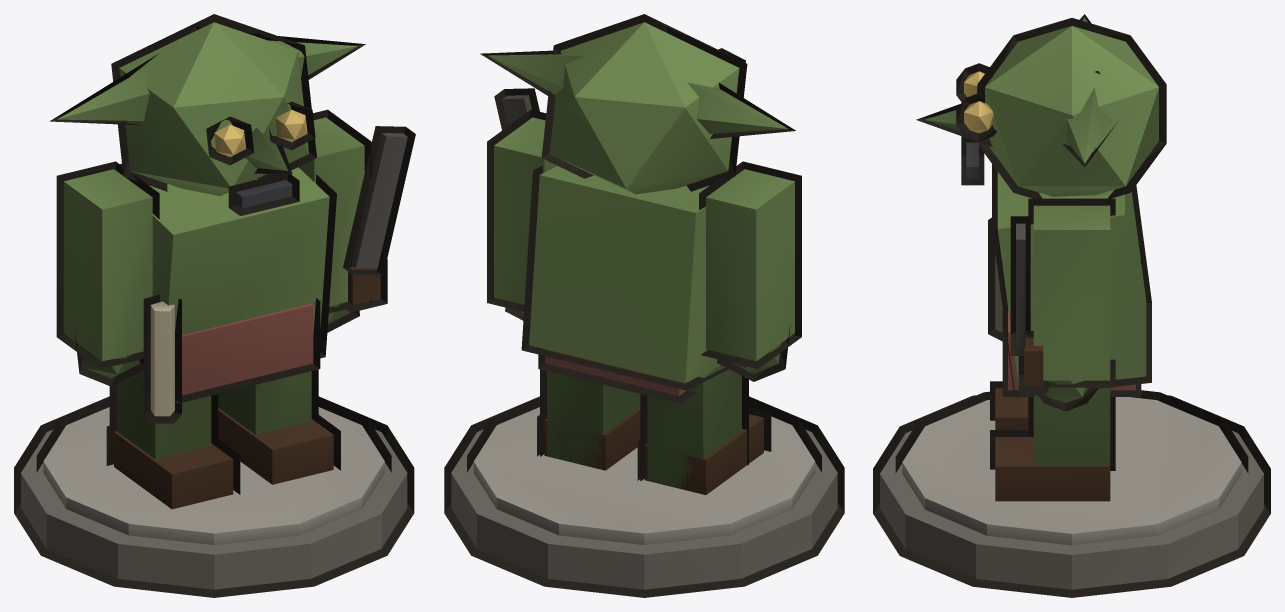
File: pnj_gobelin.glb
The picture shows the model from 3 angles, left to right: view 1: azimuth 30°, elevation 25°; view 2: azimuth 150°, elevation 25°; view 3: azimuth 270°, elevation 25°; orthographic projection.
Parts seen in each view (by area): view 1: pnj_gobelin, pnj_gobelin_outline; view 2: pnj_gobelin, pnj_gobelin_outline; view 3: pnj_gobelin, pnj_gobelin_outline.
Boxes of the visible parts, x1,y1,x2,y2 form: pnj_gobelin: (21, 22, 407, 589); pnj_gobelin_outline: (14, 14, 415, 597); pnj_gobelin: (451, 22, 837, 589); pnj_gobelin_outline: (444, 14, 844, 597); pnj_gobelin: (880, 18, 1263, 589); pnj_gobelin_outline: (873, 14, 1270, 597).
Bounding box in the file's own units: 0.6212 × 0.8551 × 0.6212.
